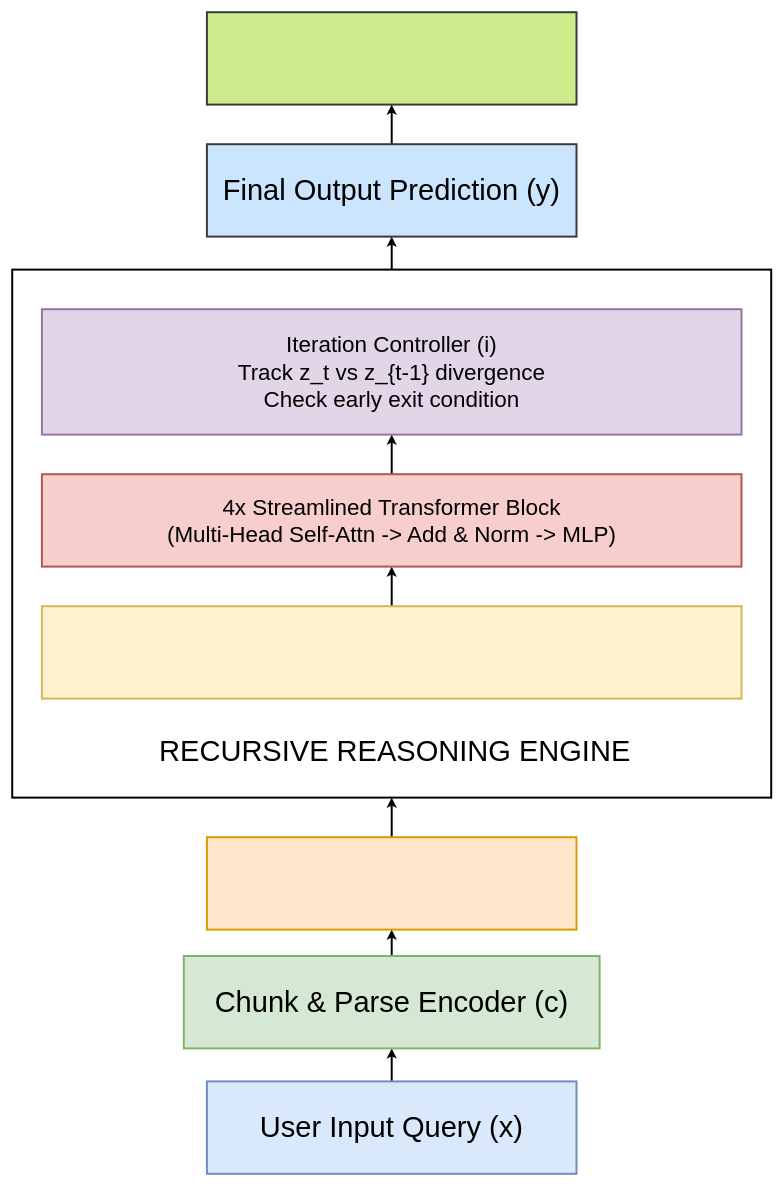
Some shapes in this 783 by 1186 pixel diagram are drawn without their labels. Here are the shapes that lost their labels. From the top down, the centre of each, then its label:
At point 391,58: "Verification & Replay Buffer".
At point 391,652: "[ a_tokens | x_tokens | z_latent (Reasoning) | y_pred (Answer) ]".
At point 391,883: "Vector DB Search (a & k)".
